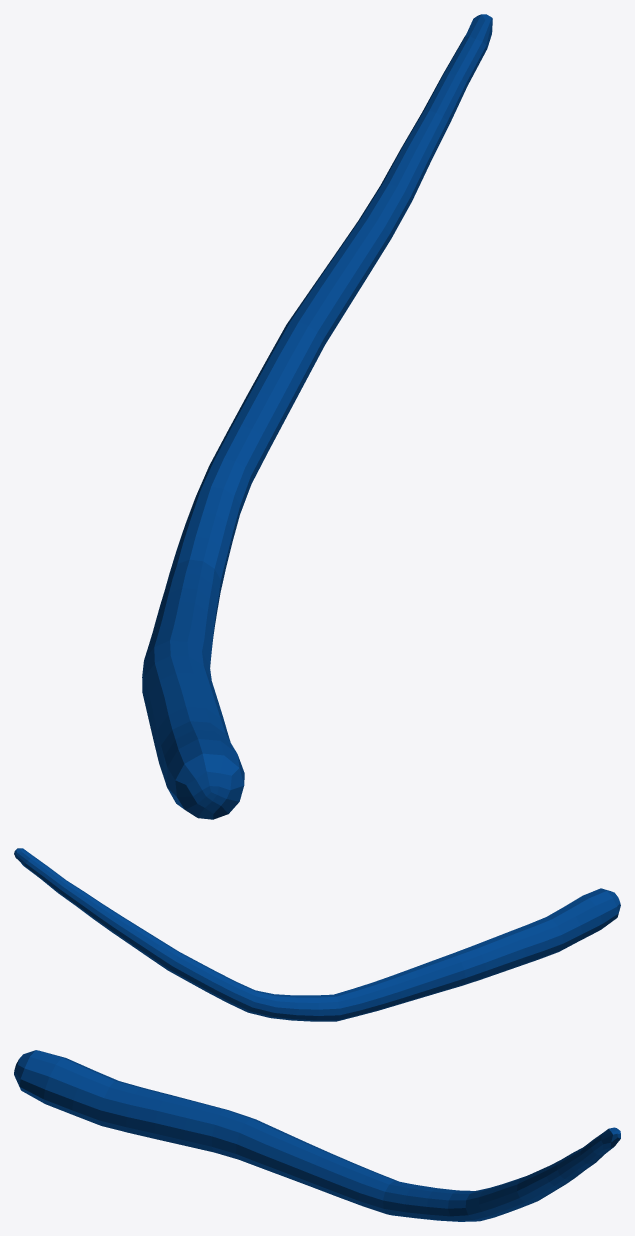
Rendered from Optic_nerve_R.glb.
3 views of the same model, one above another, from view 1: azimuth 30°, elevation 25°; view 2: azimuth 150°, elevation 25°; view 3: azimuth 270°, elevation 25° (orthographic). The views are drawn at different scales.
Parts seen in each view (by area): view 1: Optic_nerve_R.001; view 2: Optic_nerve_R.001; view 3: Optic_nerve_R.001.
Boxes of the visible parts, <box> form: Optic_nerve_R.001: <box>142,14,492,819</box>; Optic_nerve_R.001: <box>14,848,620,1021</box>; Optic_nerve_R.001: <box>14,1050,620,1221</box>.
Bounding box in the file's own units: 0.0534 × 0.024 × 0.057.
1 material, 1 textured.
